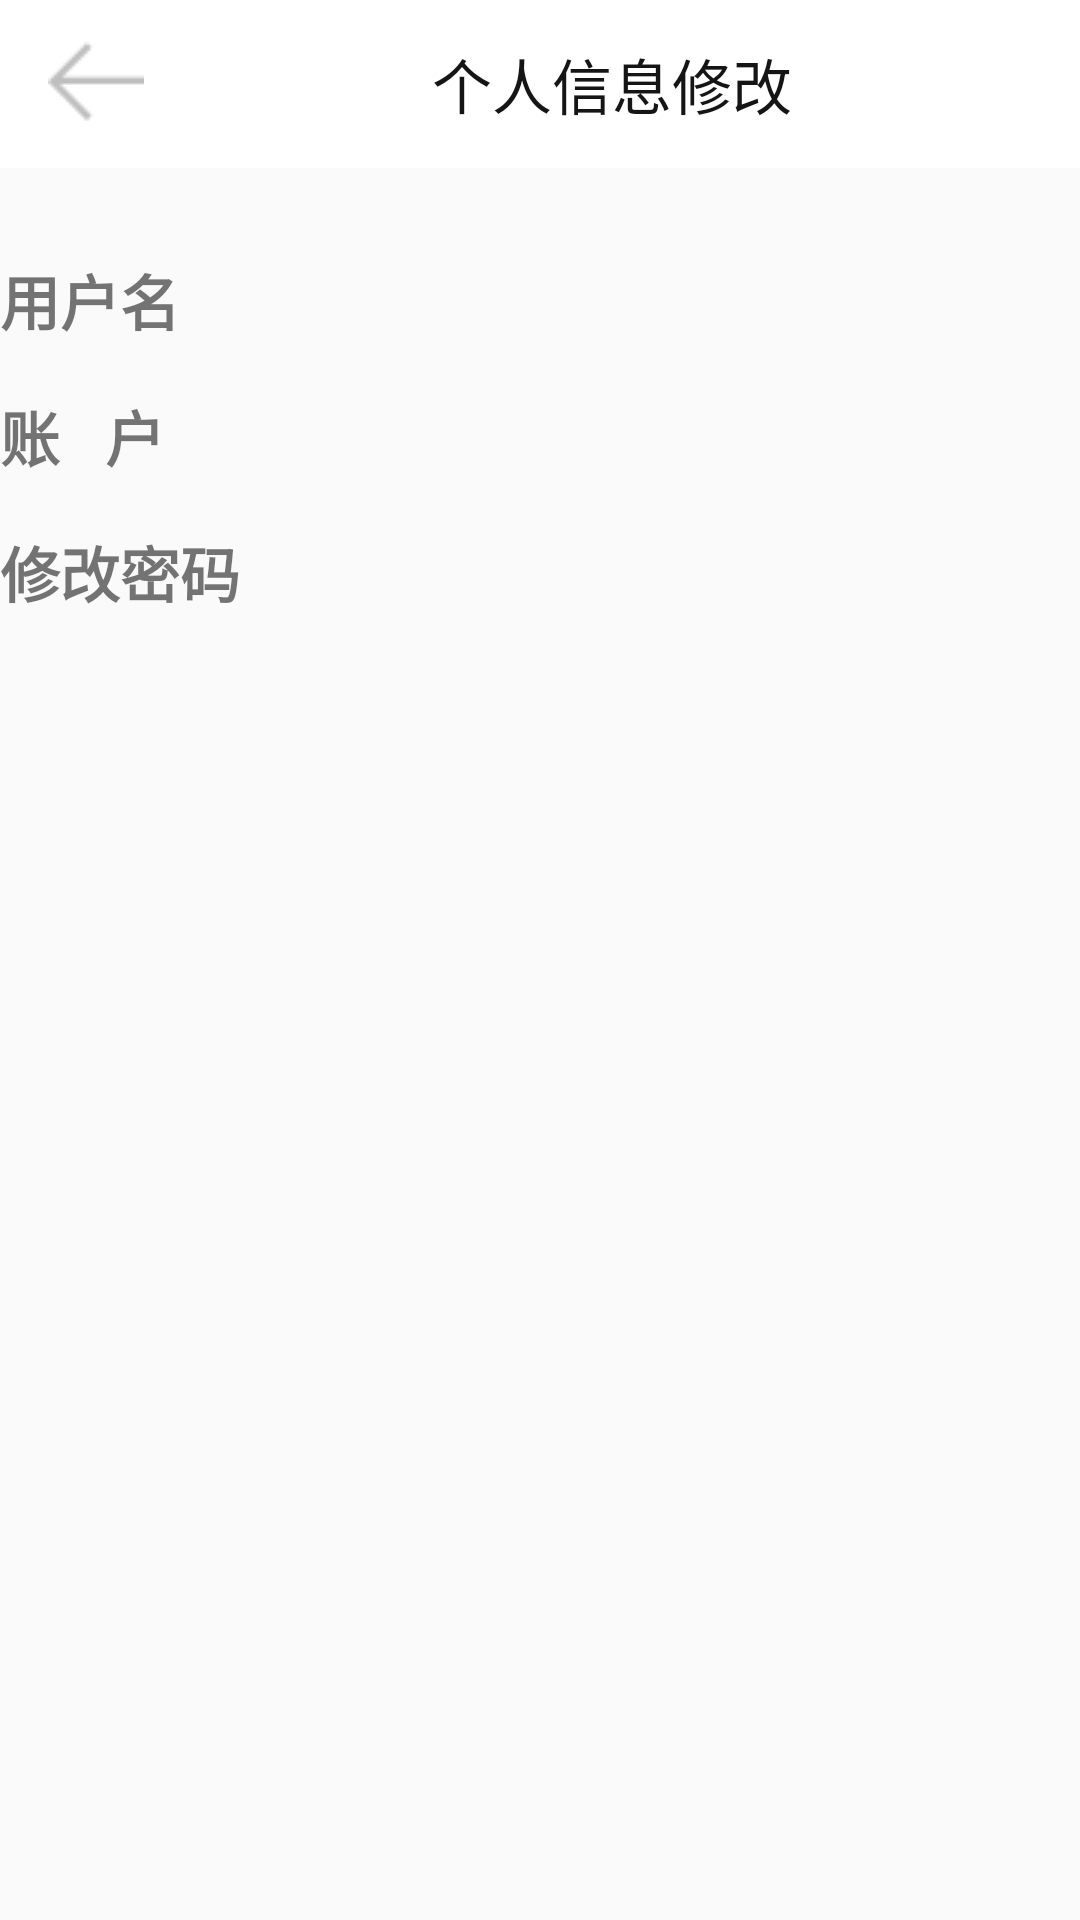

Named icons in this screenshot (1080px×1920px) and their centers, (x=x, y=y):
fanhui: (x=96, y=82)
